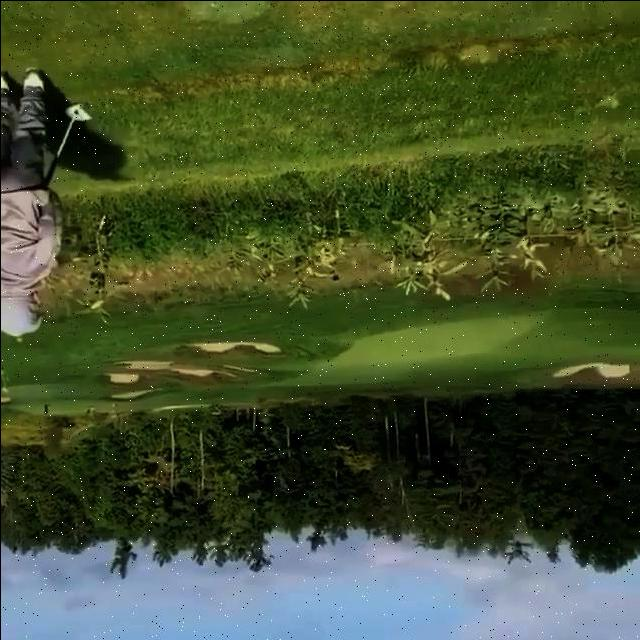golf club-handle: (38, 97, 95, 193)
golf club-head: (61, 101, 91, 121)
